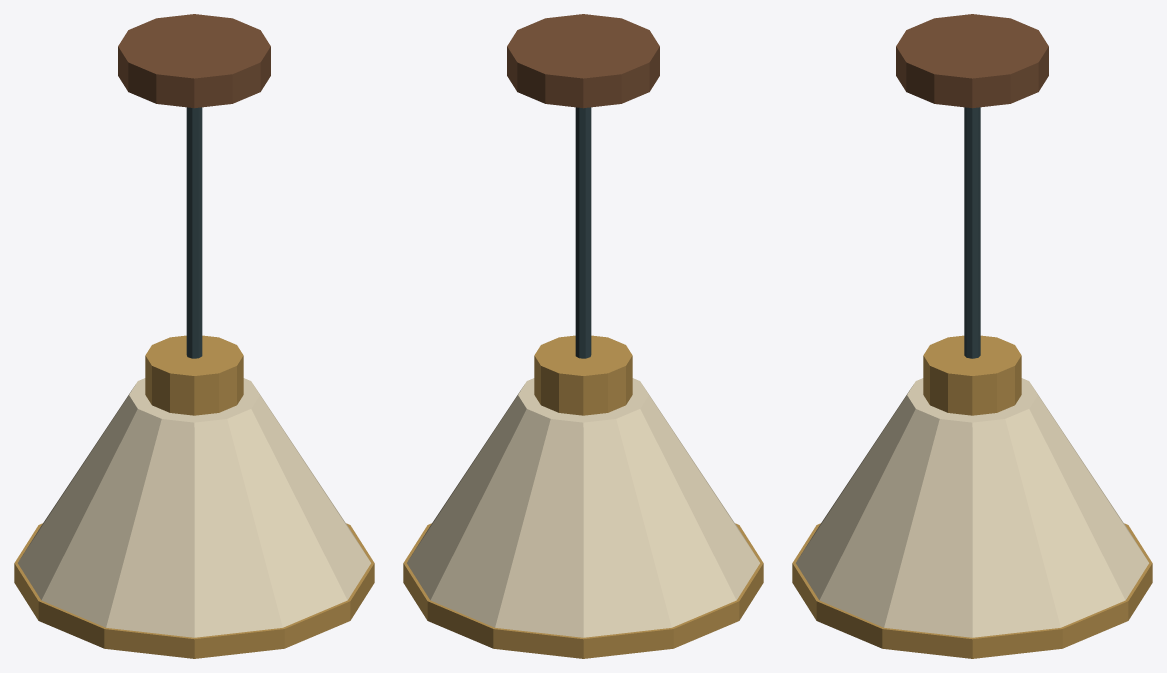
The model's file is SM_CH_Story_Pendant.fbx.
3 views of the same model, side by side, from view 1: azimuth 30°, elevation 25°; view 2: azimuth 150°, elevation 25°; view 3: azimuth 270°, elevation 25° (orthographic).
Visible parts, largest first — view 1: SM_CH_Story_Pendant; view 2: SM_CH_Story_Pendant; view 3: SM_CH_Story_Pendant.
Boxes of the visible parts, x1,y1,x2,y2 form: SM_CH_Story_Pendant: [14, 14, 374, 658]; SM_CH_Story_Pendant: [403, 14, 763, 658]; SM_CH_Story_Pendant: [792, 14, 1152, 658].
Bounding box in the file's own units: 6600 × 6600 × 10850.
